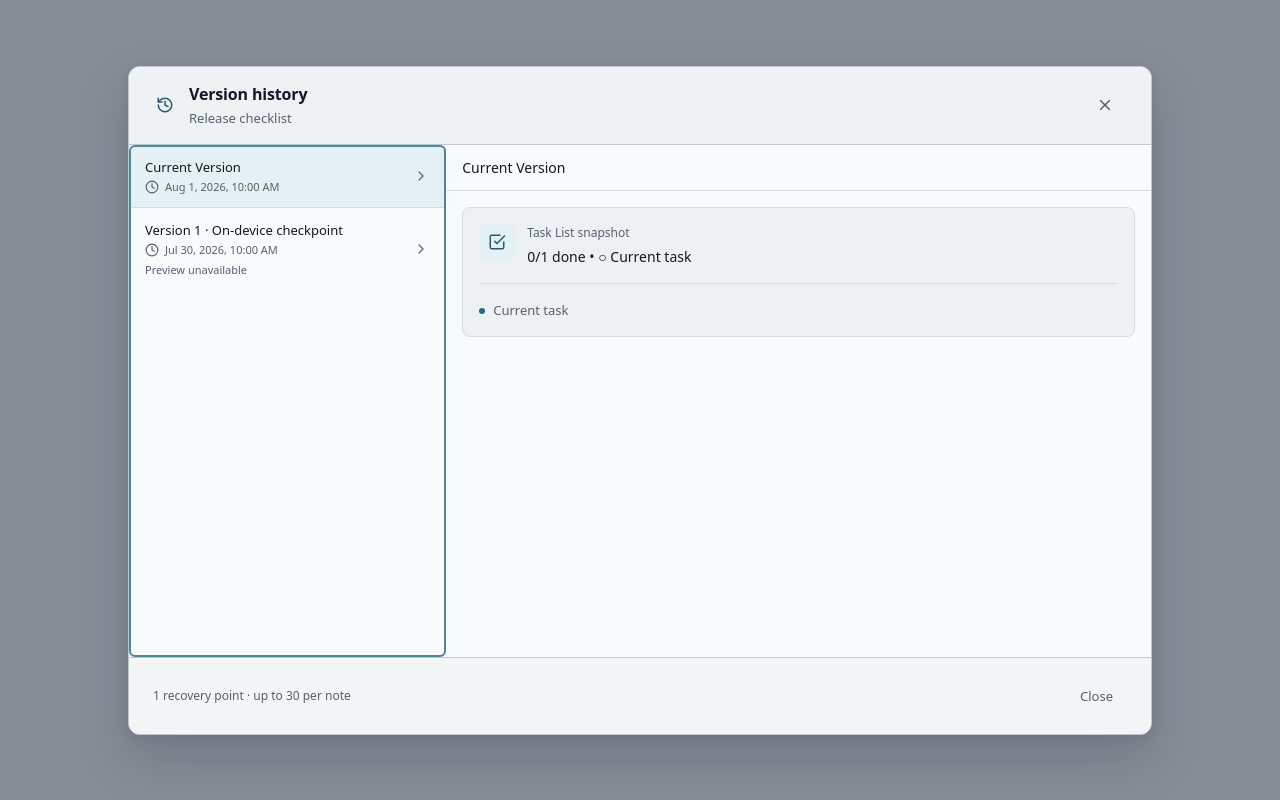
Test: VersionHistoryModal › blocks a damaged structured snapshot instead of exposing or restoring it
What coordinates should you click on to do the following:
click the button "Version 1"
I would click on:
 (170, 230)
Its box is [129,208,445,290].
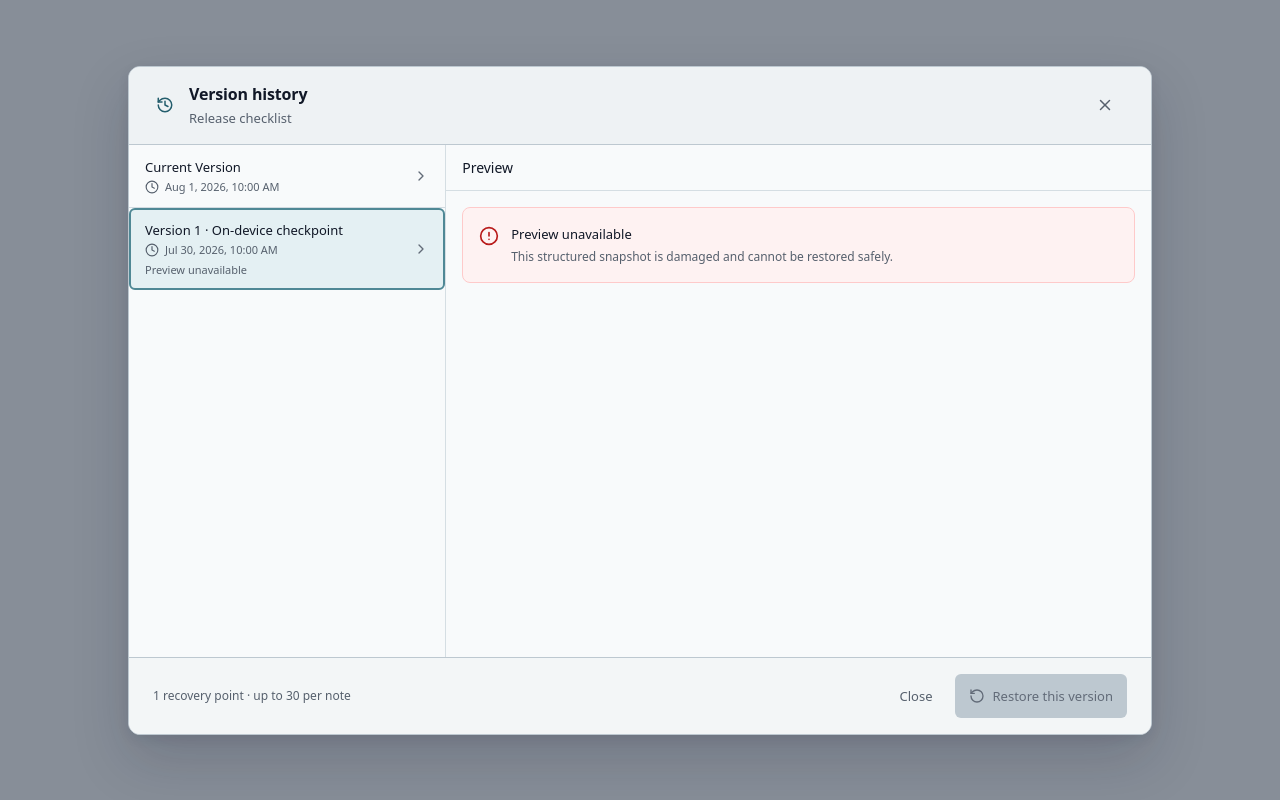
Expected: the message that starts with "Preview unavailable" shows "cannot be restored safely", [511,248,893,264]
Expected: the button "Restore this version" is disabled, [954,674,1127,718]
